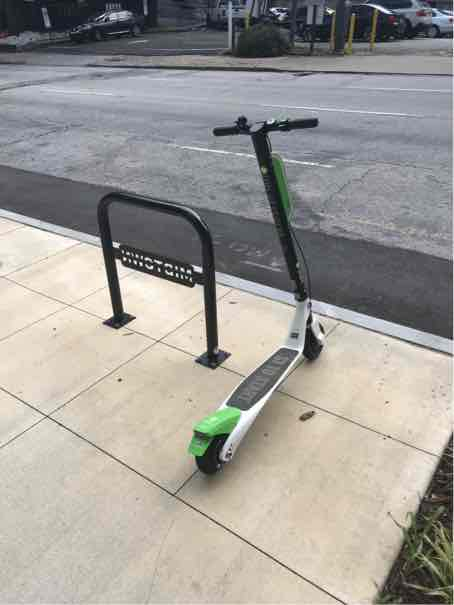scooter: (185, 105, 337, 489)
